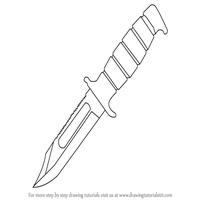knife: (26, 8, 158, 191)
